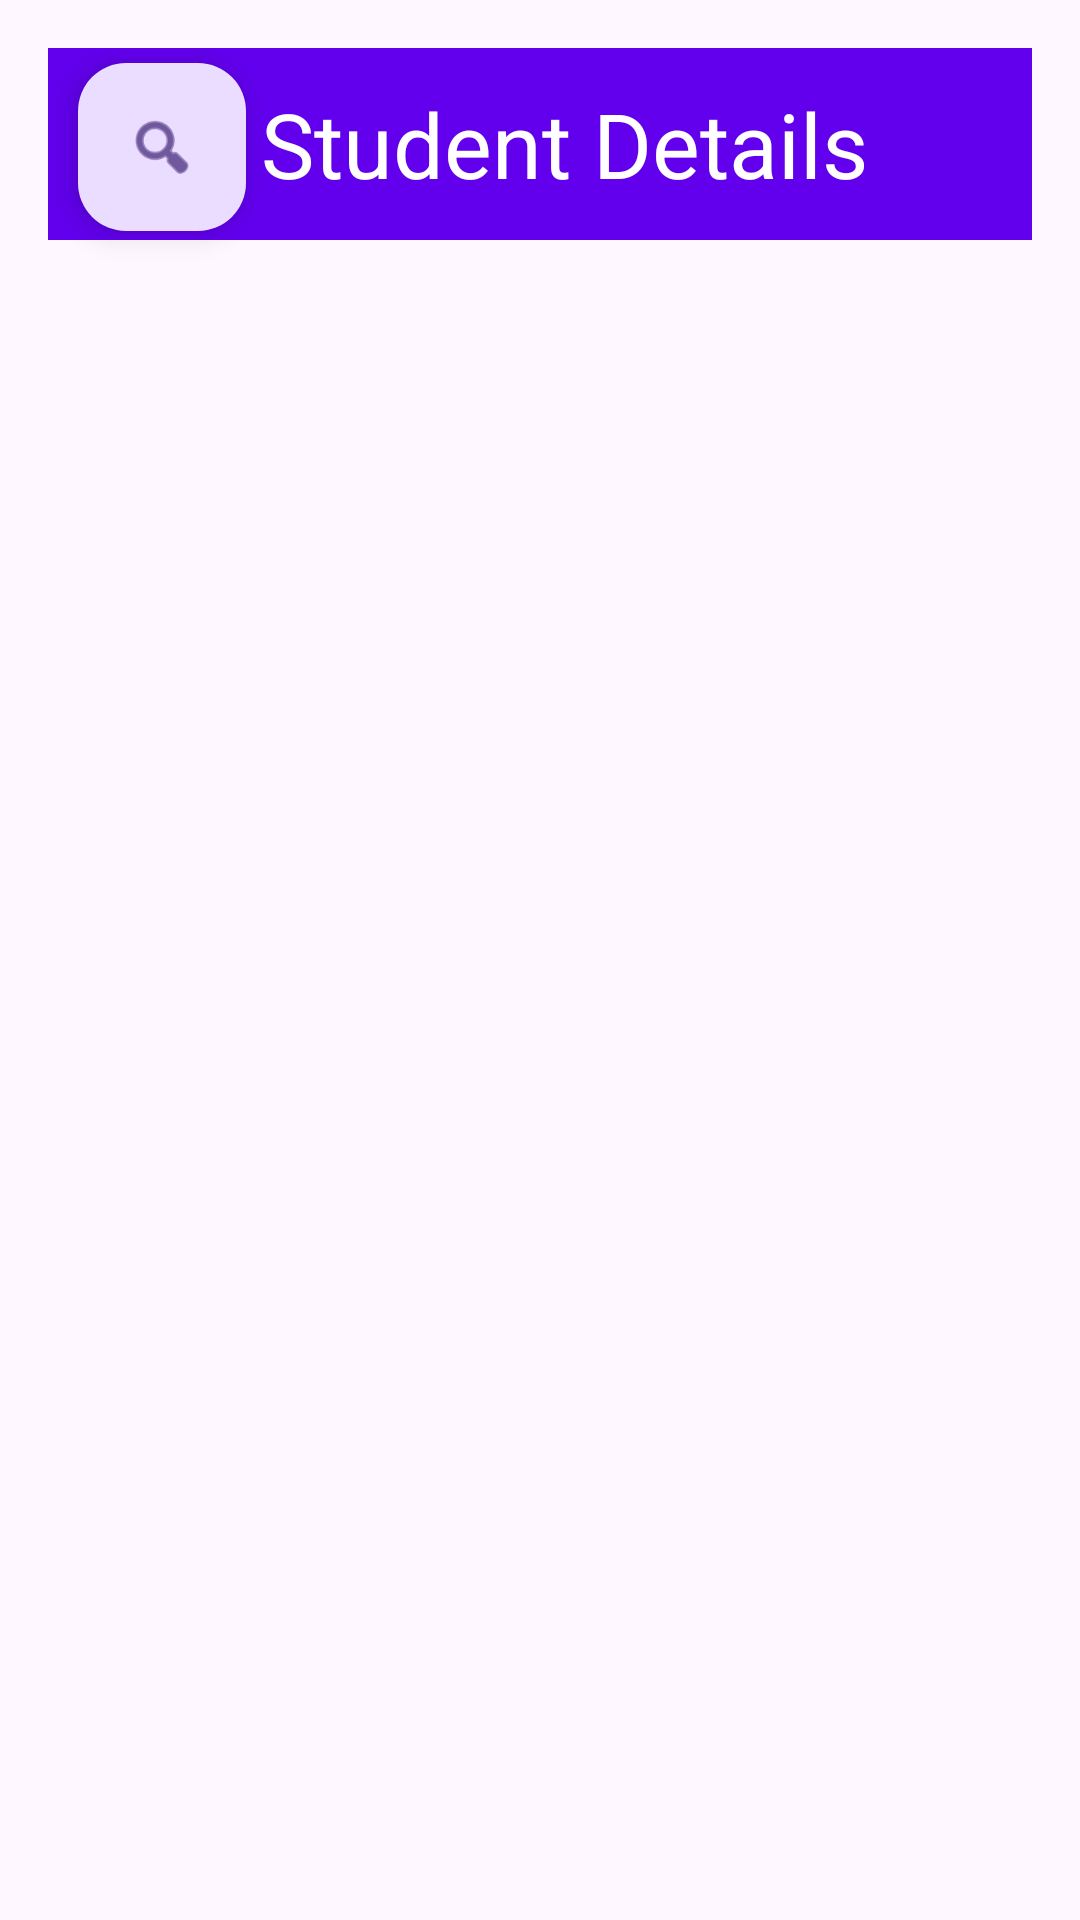

Named icons in this screenshot (1080 × 1920) and their bounding boxes, (x1, y1, x2, y2):
search: (78, 63, 246, 231)
